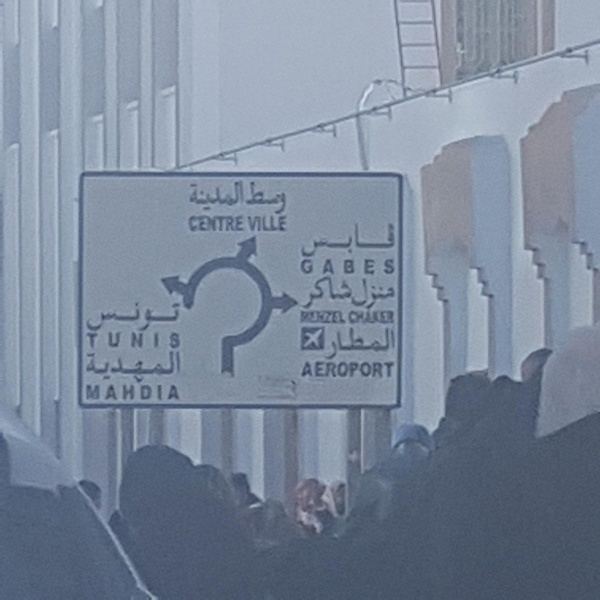text: (337, 276, 353, 312), (305, 219, 320, 257), (321, 219, 336, 257), (337, 219, 352, 257), (353, 219, 368, 257), (369, 219, 384, 257), (305, 276, 320, 312), (321, 276, 336, 312), (273, 181, 289, 214), (337, 326, 352, 361), (353, 326, 368, 361), (369, 326, 384, 361), (97, 350, 112, 384), (113, 350, 128, 384), (129, 350, 144, 384), (145, 350, 160, 384), (161, 350, 176, 384), (257, 181, 272, 214), (97, 300, 112, 332), (113, 300, 128, 332), (129, 300, 144, 332), (145, 300, 160, 332), (161, 300, 176, 332), (193, 180, 208, 211), (209, 180, 224, 211), (225, 180, 240, 211), (353, 278, 368, 309), (369, 278, 384, 309), (385, 219, 396, 257), (325, 326, 336, 361), (385, 326, 396, 361), (85, 300, 96, 332), (385, 278, 396, 309), (87, 350, 96, 384), (247, 181, 256, 214), (193, 215, 208, 234), (209, 215, 224, 234), (225, 215, 240, 234), (97, 331, 112, 350), (113, 331, 128, 350), (129, 331, 144, 350), (145, 331, 160, 350), (161, 331, 176, 350), (305, 258, 320, 276), (321, 258, 336, 276), (337, 258, 352, 276), (353, 258, 368, 276), (369, 258, 384, 276), (305, 361, 320, 379), (321, 361, 336, 379), (337, 361, 352, 379), (353, 361, 368, 379), (369, 361, 384, 379), (97, 384, 112, 402), (113, 384, 128, 402), (129, 384, 144, 402), (145, 384, 160, 402), (161, 384, 176, 402), (257, 215, 272, 232), (273, 215, 288, 232), (305, 309, 320, 325), (321, 309, 336, 325), (353, 309, 368, 325), (369, 309, 384, 325), (385, 258, 397, 276), (85, 384, 96, 402), (385, 309, 397, 325), (86, 331, 96, 350), (385, 361, 395, 379), (177, 350, 182, 384), (177, 300, 182, 332), (342, 309, 352, 325), (248, 215, 256, 232), (337, 309, 345, 325), (241, 180, 245, 211), (301, 219, 304, 257), (301, 276, 304, 312), (189, 180, 192, 211), (188, 215, 192, 234), (241, 215, 245, 234), (300, 258, 304, 276), (177, 384, 181, 402), (177, 331, 180, 350), (301, 361, 304, 379), (301, 309, 304, 325), (351, 278, 352, 309)
